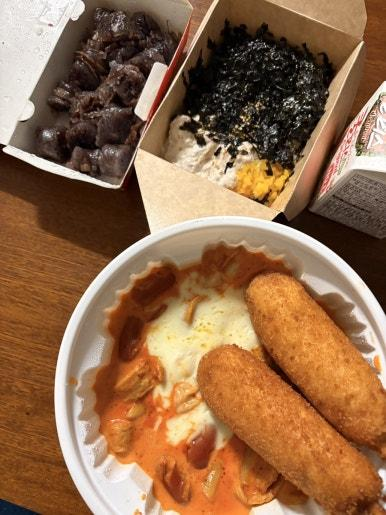Lunch Box: (55, 217, 385, 514), (135, 0, 366, 231), (0, 0, 191, 188)
